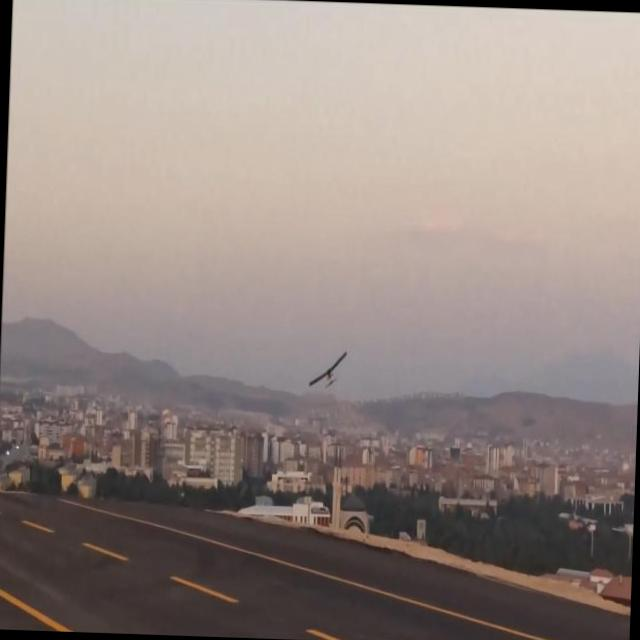UAV: (307, 348, 376, 414)
